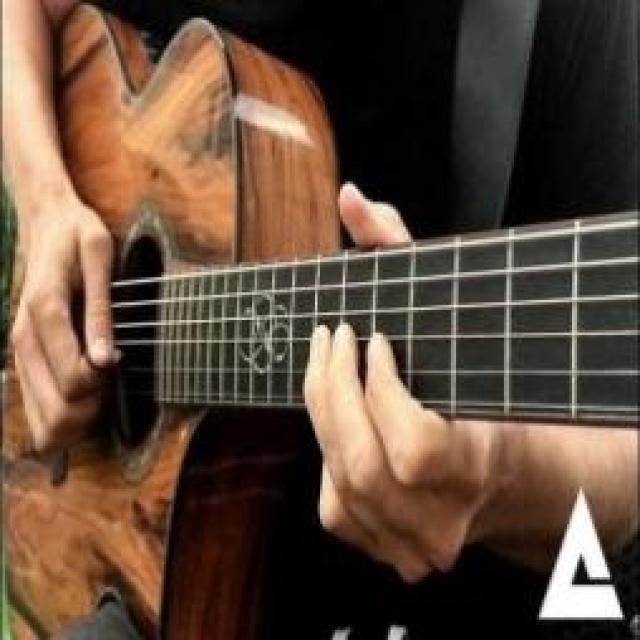acousticguitar: (3, 5, 637, 637)
